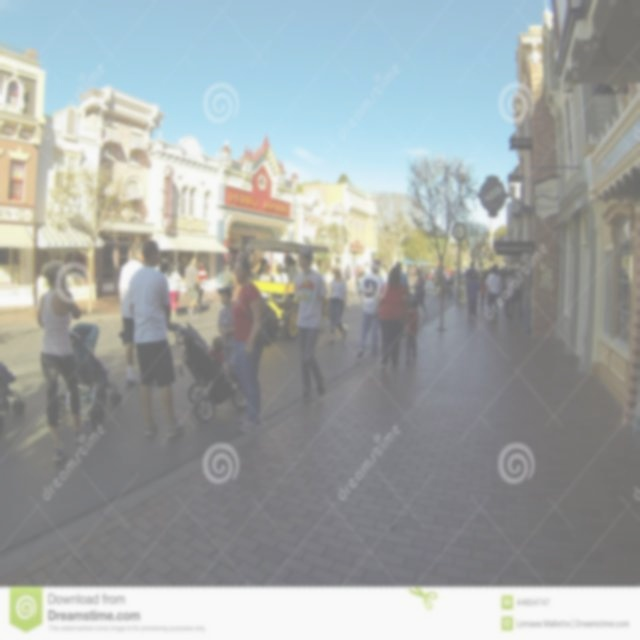pessoa: (127, 238, 187, 439), (36, 258, 92, 462), (230, 256, 280, 434), (292, 244, 329, 404), (372, 264, 411, 372), (118, 241, 144, 389), (354, 258, 386, 360), (214, 285, 242, 392), (204, 334, 238, 396), (324, 264, 348, 346), (484, 264, 504, 324), (240, 254, 280, 284), (183, 256, 202, 318), (408, 268, 429, 320), (404, 297, 420, 363), (165, 261, 182, 320), (479, 262, 522, 284), (196, 258, 209, 310), (504, 268, 516, 324), (467, 272, 481, 320), (256, 262, 272, 302), (442, 261, 459, 297), (282, 251, 299, 284), (394, 260, 410, 294), (464, 260, 481, 292), (221, 262, 236, 292), (226, 256, 241, 286), (378, 256, 394, 284), (273, 262, 290, 284), (342, 263, 352, 293), (418, 262, 428, 292), (433, 262, 441, 296), (478, 284, 486, 314), (360, 261, 374, 277), (355, 265, 366, 285), (405, 264, 418, 280), (428, 264, 436, 289), (426, 268, 434, 292), (353, 264, 361, 286), (309, 259, 319, 274), (501, 284, 506, 309)
